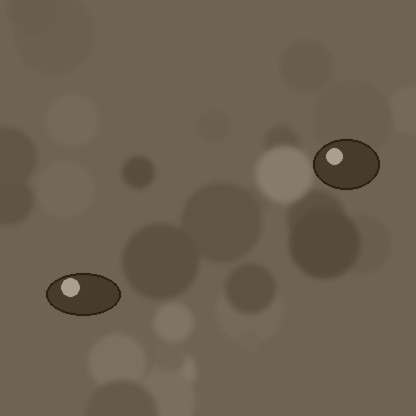gota: (313, 141, 379, 193), (46, 275, 120, 319)
